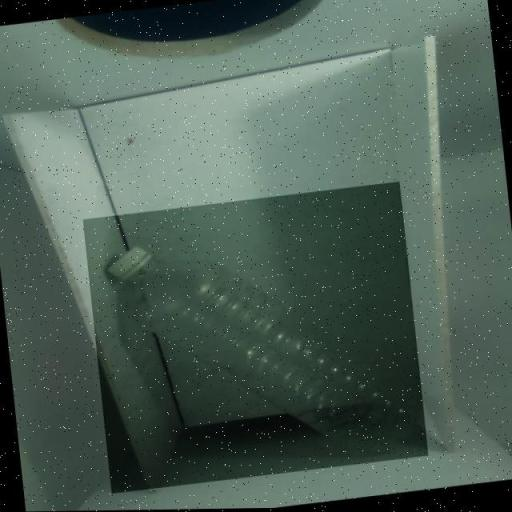plastic: (82, 182, 428, 496)
